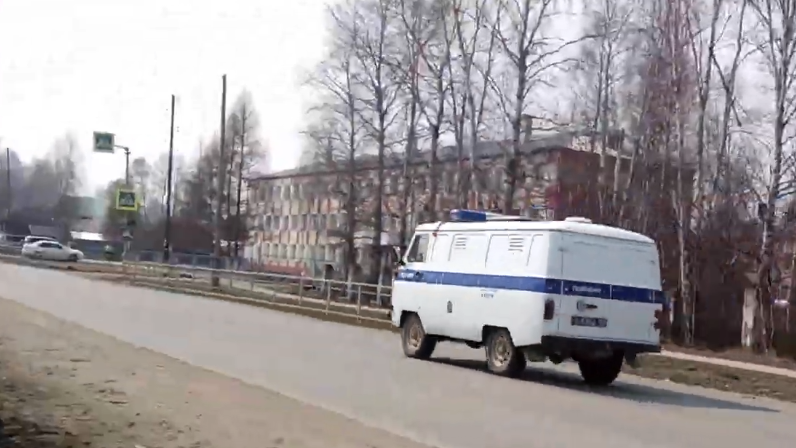non emergency car: (21, 235, 85, 264)
police car: (393, 205, 662, 386)
